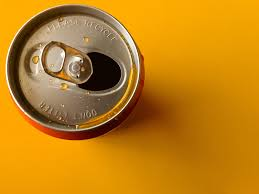can: (3, 3, 150, 146)
